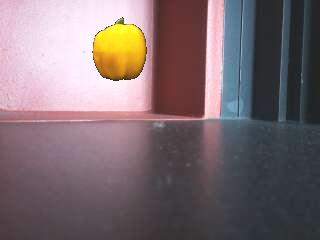Capsicum: (90, 16, 149, 82)
